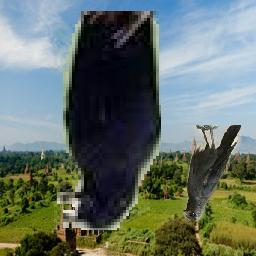Crow: (51, 12, 162, 231), (183, 125, 241, 221)
